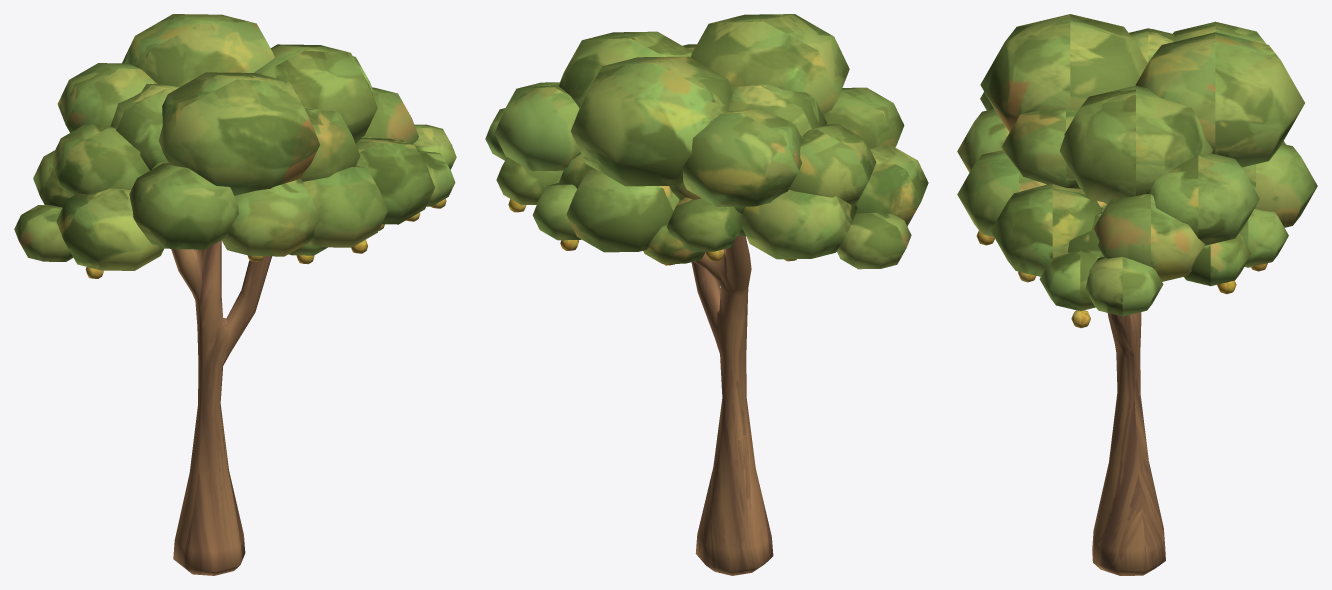
Rendered from Naranjo6.fbx.
The picture shows the model from 3 angles, left to right: view 1: azimuth 30°, elevation 25°; view 2: azimuth 150°, elevation 25°; view 3: azimuth 270°, elevation 25°; orthographic projection. The views are drawn at different scales.
Parts seen in each view (by area): view 1: Cube.059; view 2: Cube.059; view 3: Cube.059.
Boxes of the visible parts, x1=… form: Cube.059: x1=14, y1=14, x2=456, y2=575; Cube.059: x1=485, y1=14, x2=928, y2=575; Cube.059: x1=957, y1=14, x2=1317, y2=575.
Bounding box in the file's own units: 1593 × 1852 × 1116.
